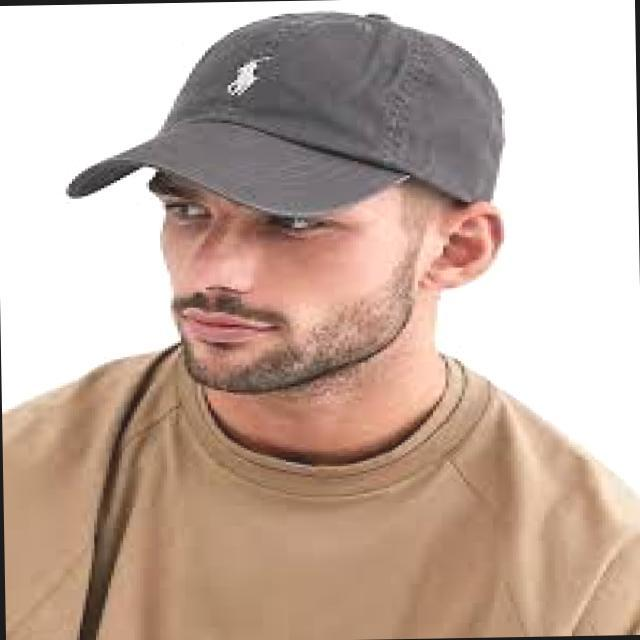cap: (43, 0, 542, 290)
